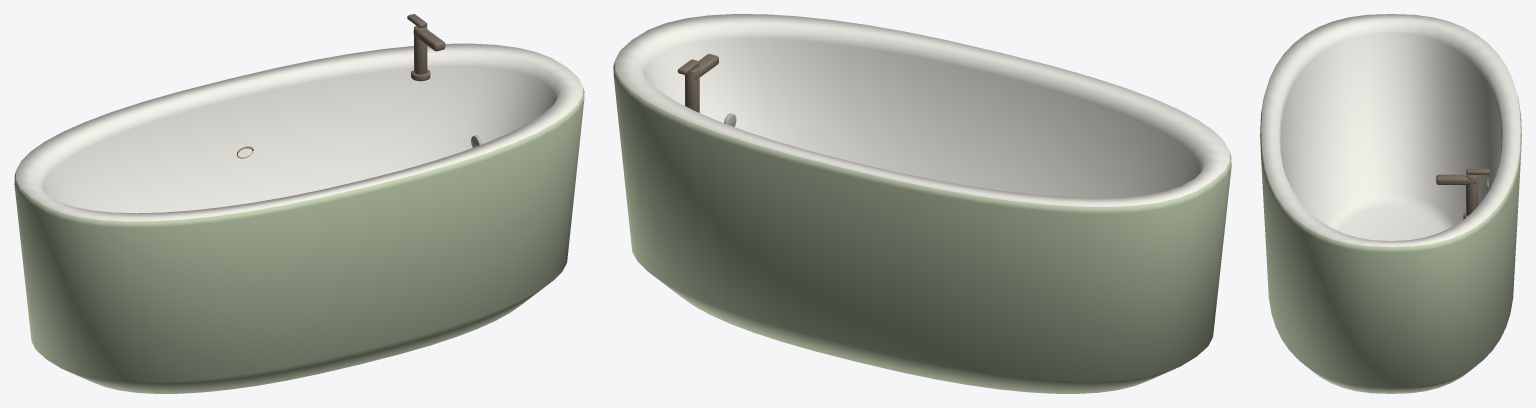
File: oval-freestanding-tub.glb
3 views of the same model, side by side, from view 1: azimuth 30°, elevation 25°; view 2: azimuth 150°, elevation 25°; view 3: azimuth 270°, elevation 25° (orthographic). The views are drawn at different scales.
Visible parts, largest first — view 1: oval-freestanding-tub; view 2: oval-freestanding-tub; view 3: oval-freestanding-tub.
Part boxes in pixels (x1=…): oval-freestanding-tub: x1=14, y1=14, x2=584, y2=393; oval-freestanding-tub: x1=613, y1=14, x2=1231, y2=393; oval-freestanding-tub: x1=1260, y1=14, x2=1521, y2=393.
Size of the model in its own units: 1.65 by 0.66 by 0.78.
